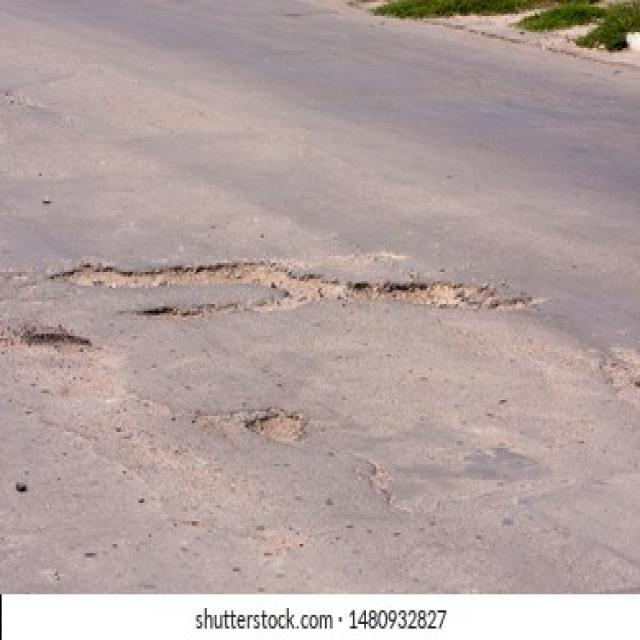Pothole: (48, 258, 538, 313), (0, 327, 125, 407), (594, 341, 640, 414), (243, 409, 307, 446), (124, 300, 264, 316)
